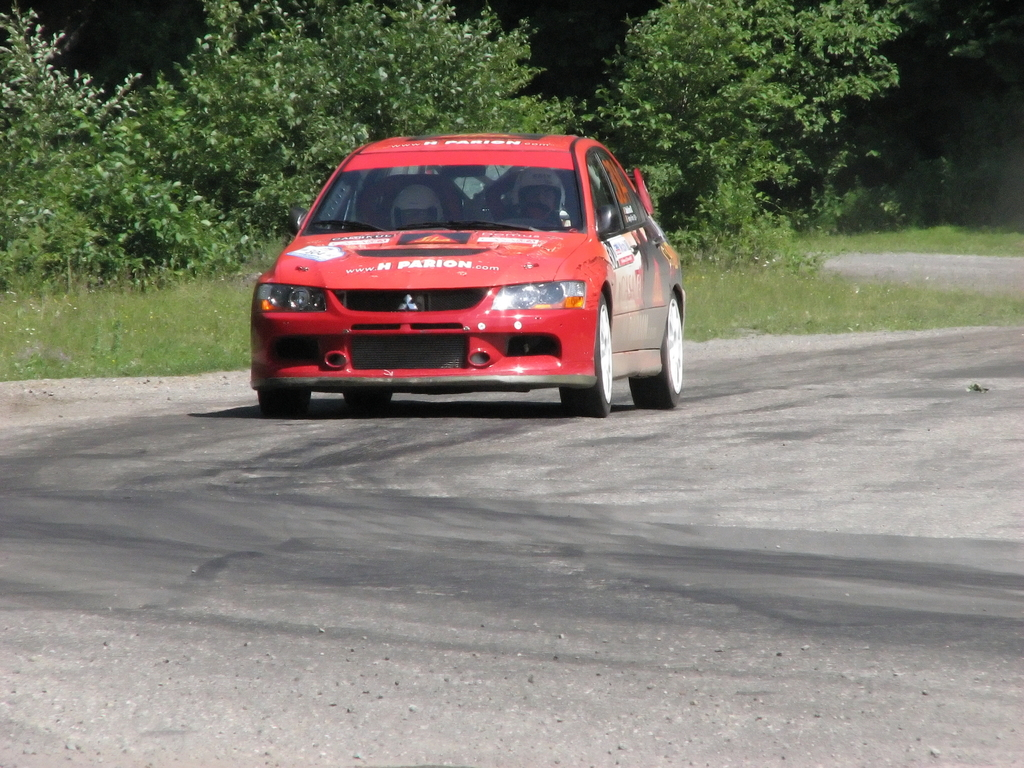Car: (249, 132, 689, 415)
